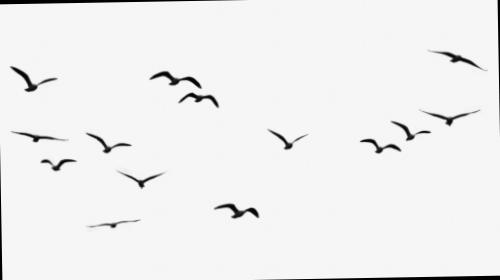bird: (204, 188, 270, 226), (254, 120, 314, 159), (3, 60, 60, 99), (80, 206, 144, 236), (80, 125, 138, 156)
